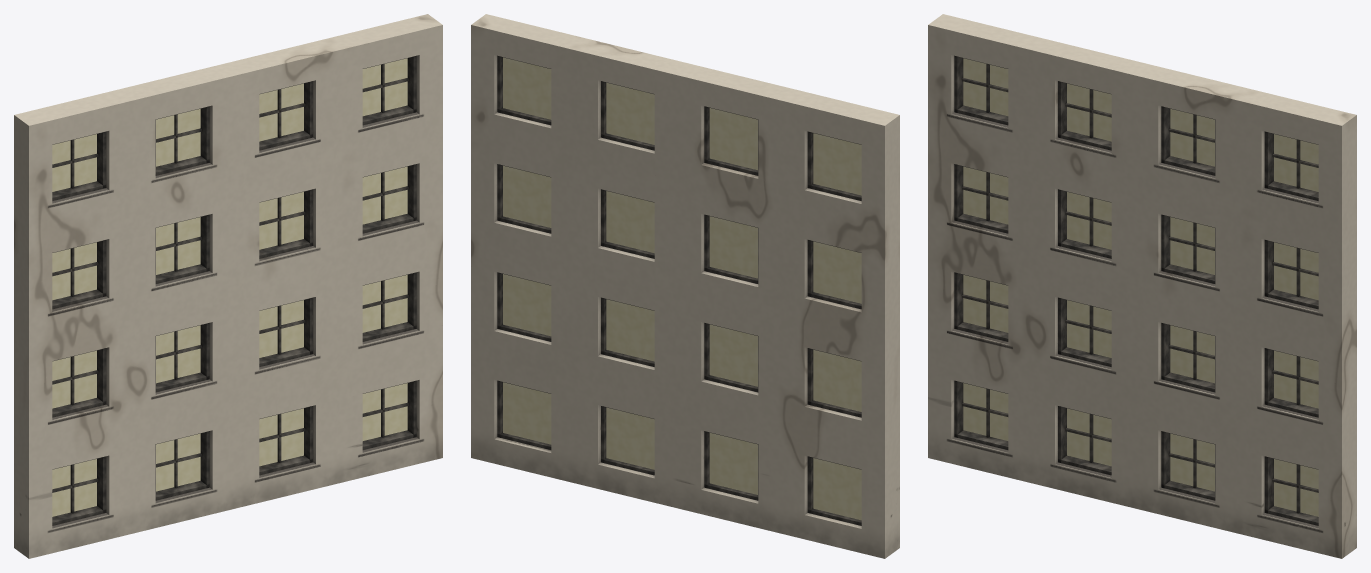
File: wall_windows.fbx
The picture shows the model from 3 angles, left to right: view 1: azimuth 30°, elevation 25°; view 2: azimuth 150°, elevation 25°; view 3: azimuth 330°, elevation 25°; orthographic projection.
Parts seen in each view (by area): view 1: Body, Glow; view 2: Body, Glow; view 3: Body, Glow.
Part boxes in pixels (box(x1,y1,x2,y2)): Body: box(14, 14, 442, 558); Glow: box(52, 58, 407, 516); Body: box(471, 14, 899, 558); Glow: box(503, 57, 861, 520); Body: box(928, 14, 1356, 558); Glow: box(963, 58, 1318, 516).
Size of the model in its own units: 16 by 16 by 1.
Materials: 1 (1 with a texture image).
